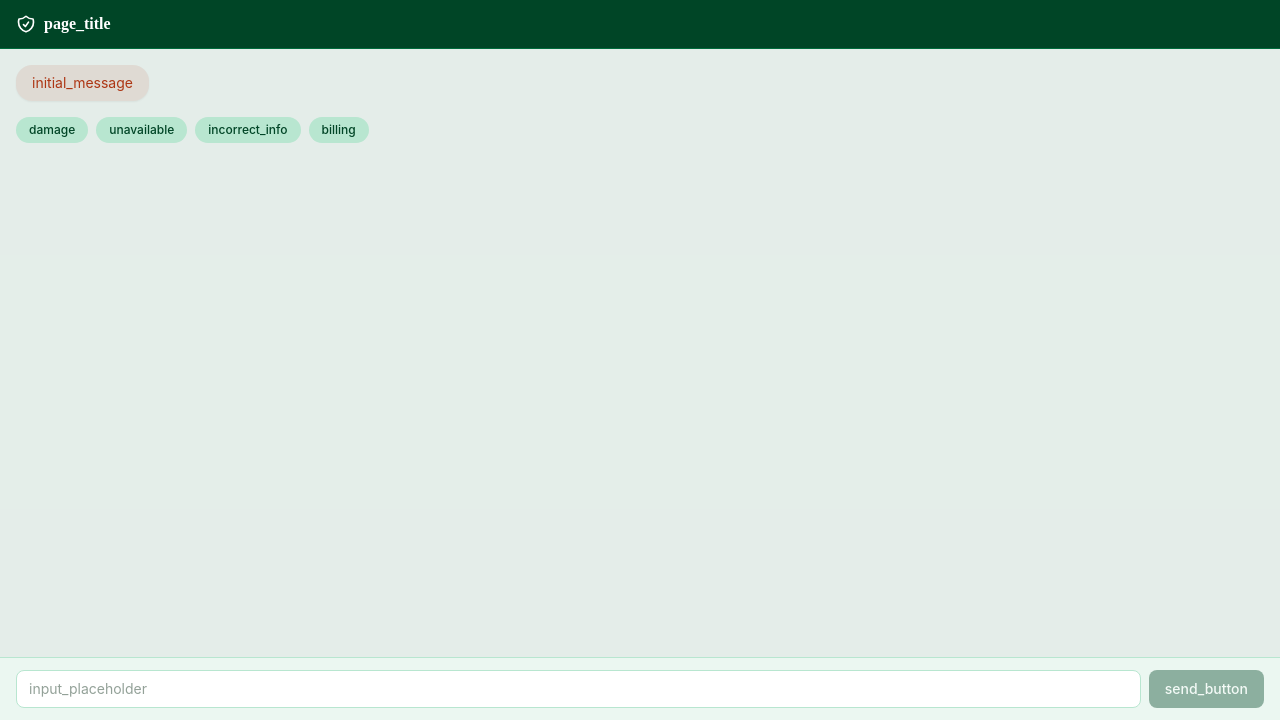
Test case: Dispute quick reply chips › chips disappear after first message is sent
The width and height of the screenshot is (1280, 720).
Type "There is a problem with my booking" into the field at (578,689), box [16,670,1141,708]
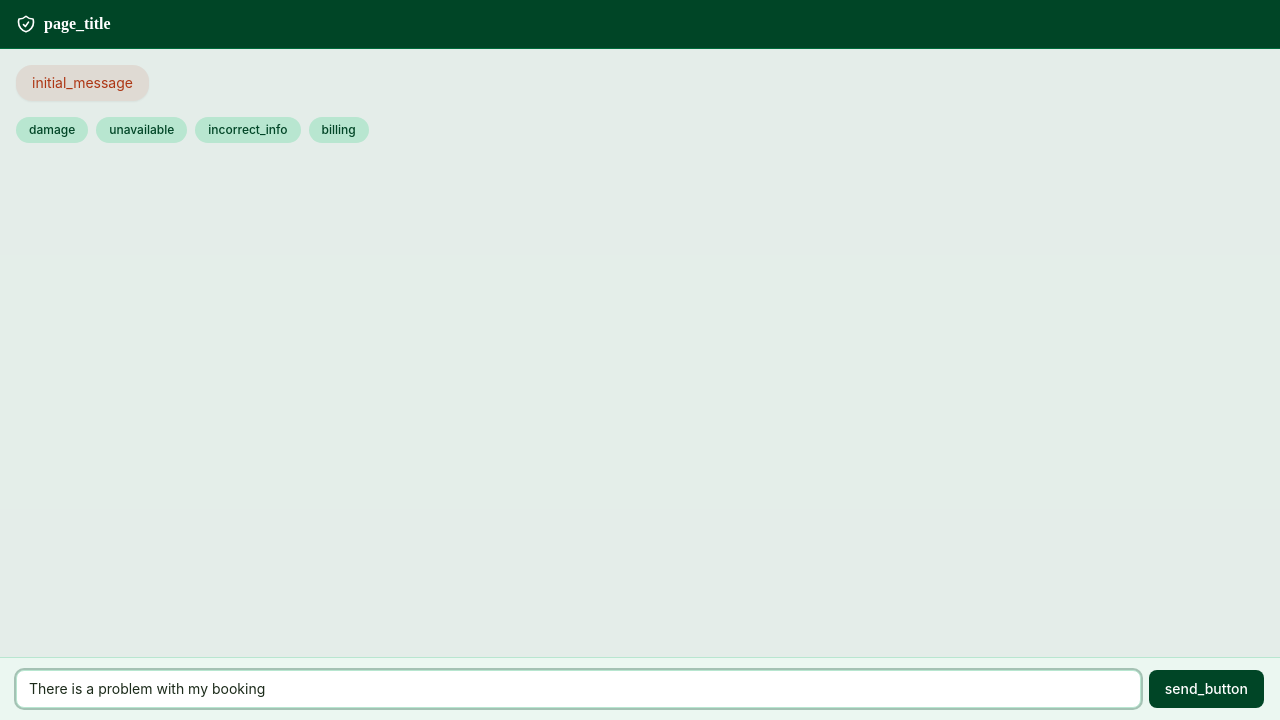
Press Enter
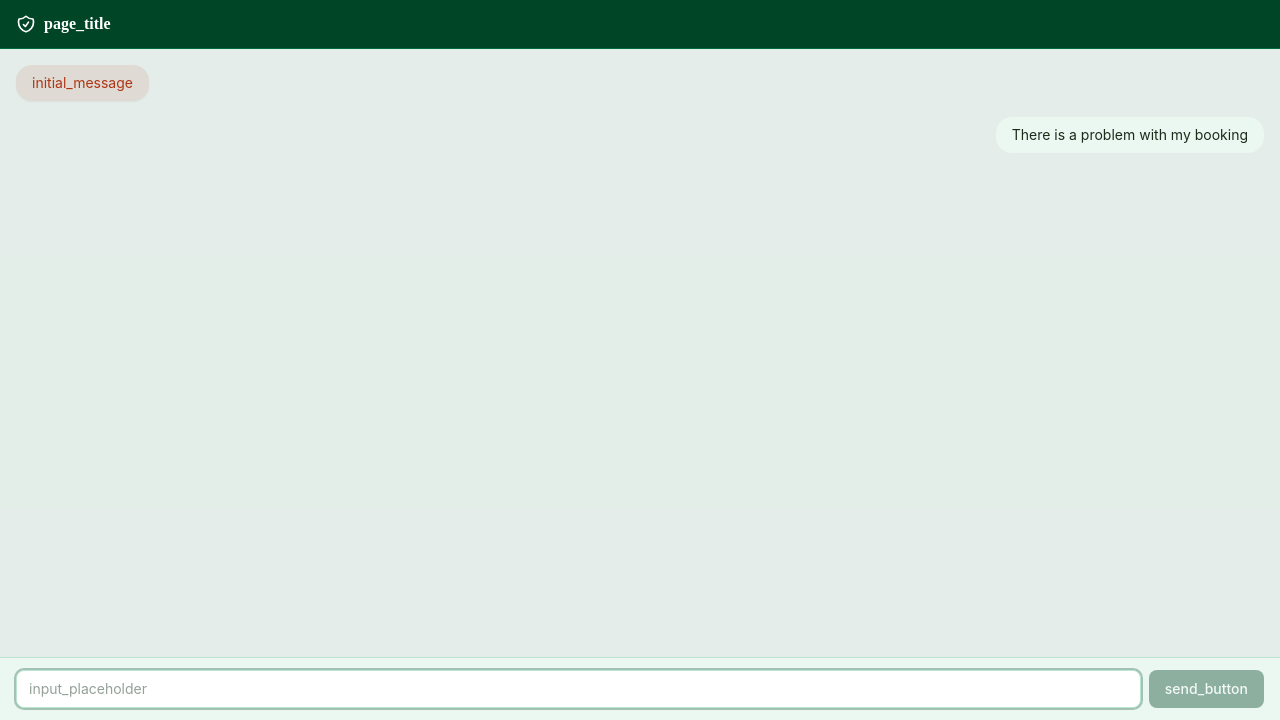
Check: no buttons with test id "quick-reply-chip" are shown
